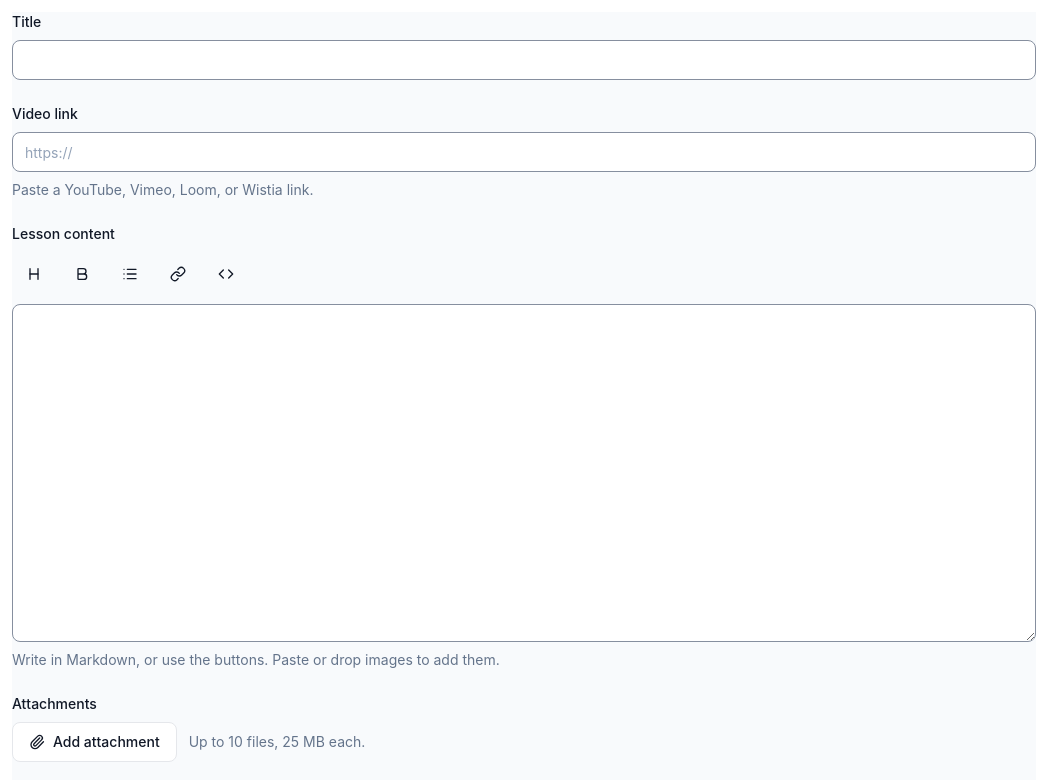
Test: LessonForm writing tools › previews a supported video link under the field
In the field labelled "Video link": coordinates (524, 152) [12,132,1036,172], type "https://www.youtube.com/watch?v=dQw4w9WgXcQ"
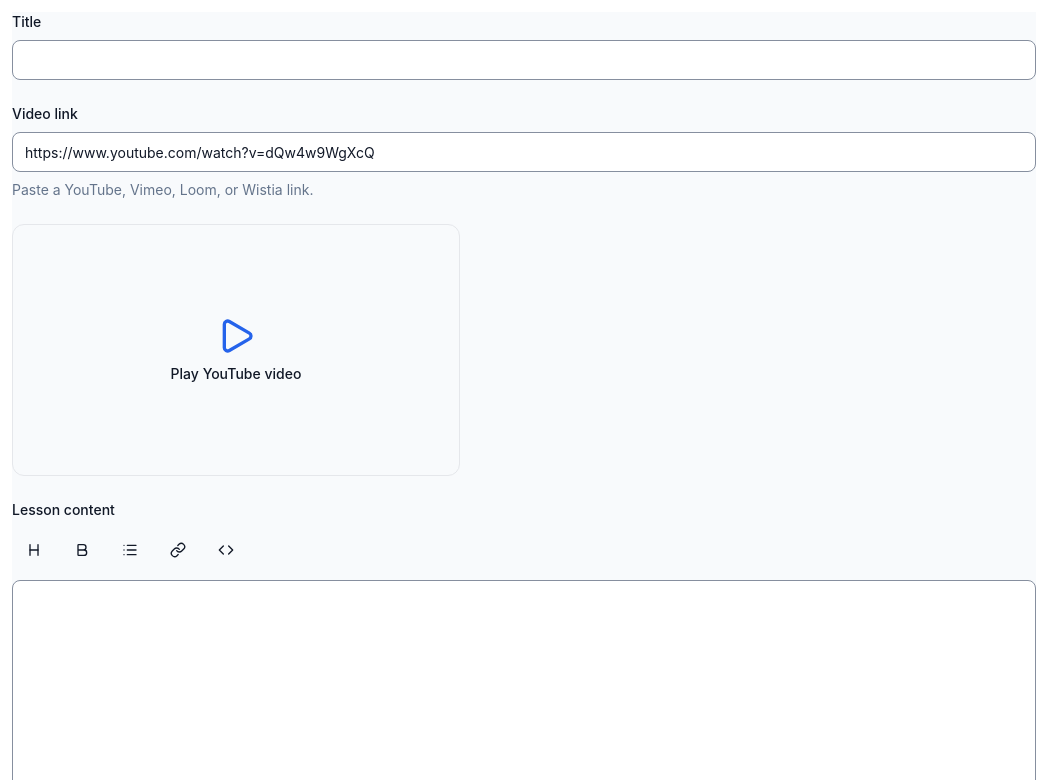
expect the button "Play YouTube video" is shown: met, box [12,224,460,476]
